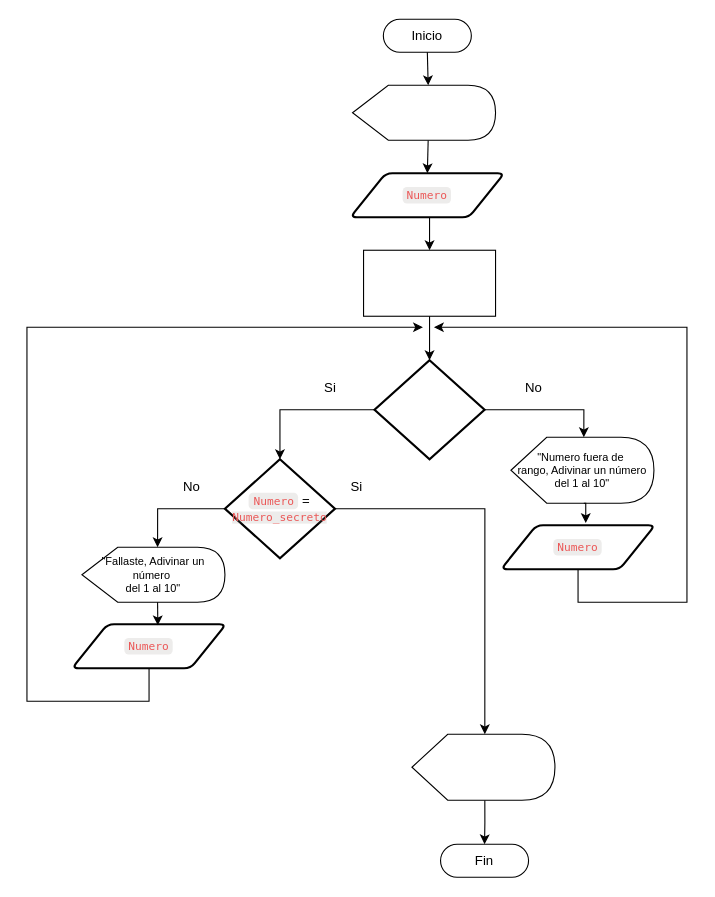
Some shapes in this 715 by 897 pixel diagram are drawn without their labels. Each missing label, with the centre of its shape:
"Adivinar un número del 1 al 10": [423,112]
"Felicidades, el numero secreto es:" Numero_secreto: [483,766]
Numero > 0 y Numero < 11: [429,409]
Numero_secreto = random de 1 a 10: [429,282]
